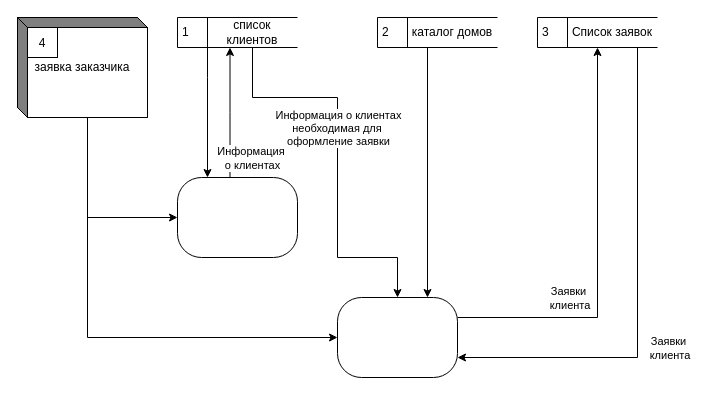
This 707x395 diagram has some shape labels left out. Here are the shapes that lost their labels. From the top down, the centre of each, then its label:
At point 237,217: "Проверка и внесение клиентов".
At point 397,337: "Внесение заявки".
